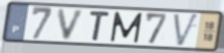7: (31, 5, 54, 41), (144, 12, 169, 45)
M: (109, 11, 145, 44)
T: (88, 10, 112, 42)
V: (56, 8, 87, 42), (172, 13, 201, 49)
